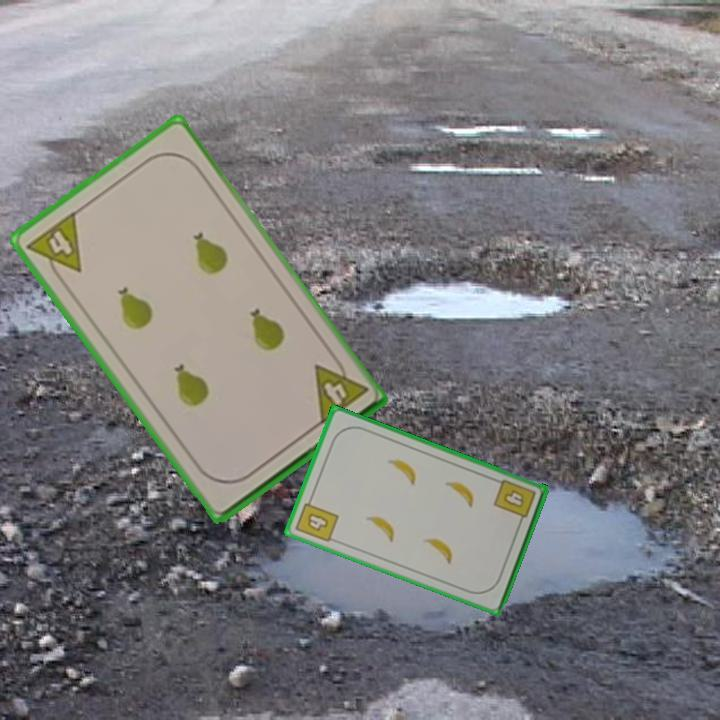4b: (292, 493, 341, 545), (490, 476, 539, 528)
4p: (22, 207, 85, 287), (310, 350, 371, 428)
